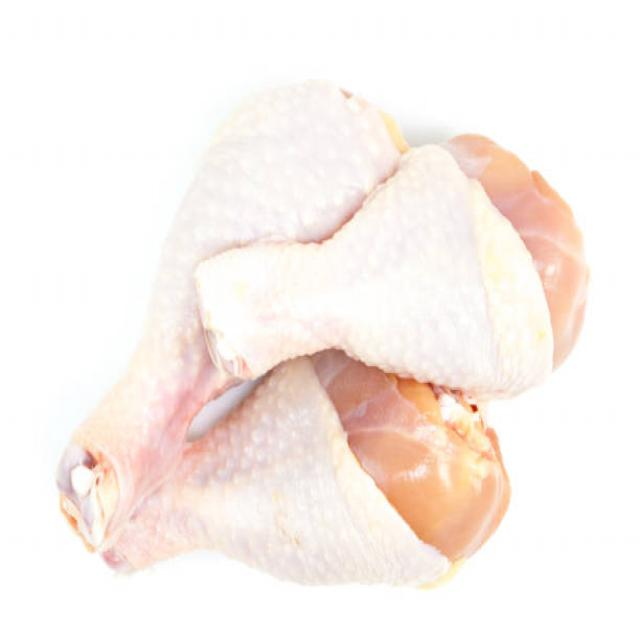Chicken: (198, 134, 594, 379), (131, 378, 513, 592)
